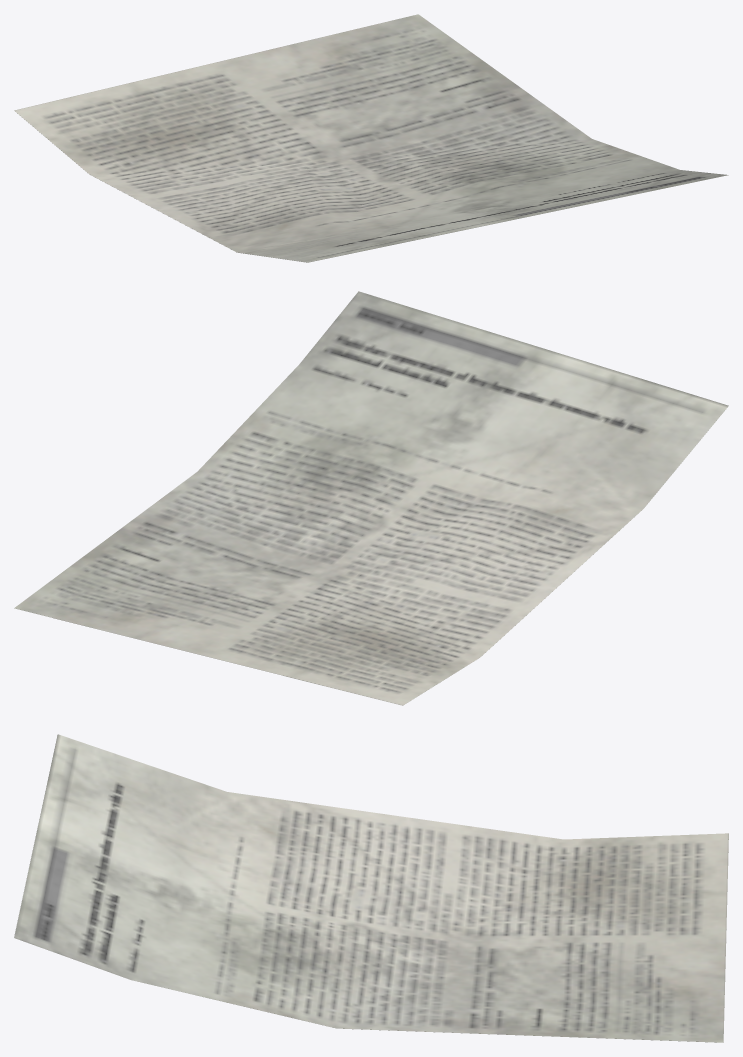
The model's file is Paper_J.obj.
3 renders of one model, top to bottom at view 1: azimuth 30°, elevation 25°; view 2: azimuth 150°, elevation 25°; view 3: azimuth 270°, elevation 25°, orthographic. The views are drawn at different scales.
Parts seen in each view (by area): view 1: Paper_J; view 2: Paper_J; view 3: Paper_J.
Part boxes in pixels (<box>): Paper_J: <box>14,14,728,262</box>; Paper_J: <box>14,291,728,705</box>; Paper_J: <box>14,734,728,1042</box>.
Size of the model in its own units: 12.98 by 2.78 by 17.82.
